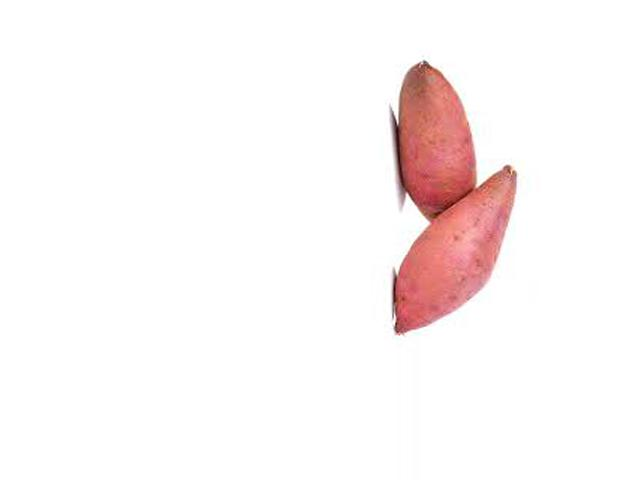sweet_potato: (395, 55, 485, 234)
